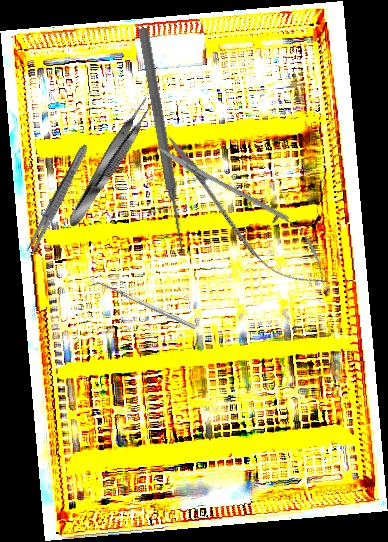Dressing Forceps: (23, 142, 91, 260)
Micro Scissor: (143, 120, 343, 304)
Pusher: (135, 26, 189, 251)
Spatula Surgical: (90, 278, 197, 334)
Tissue Forceps: (61, 94, 159, 231)
